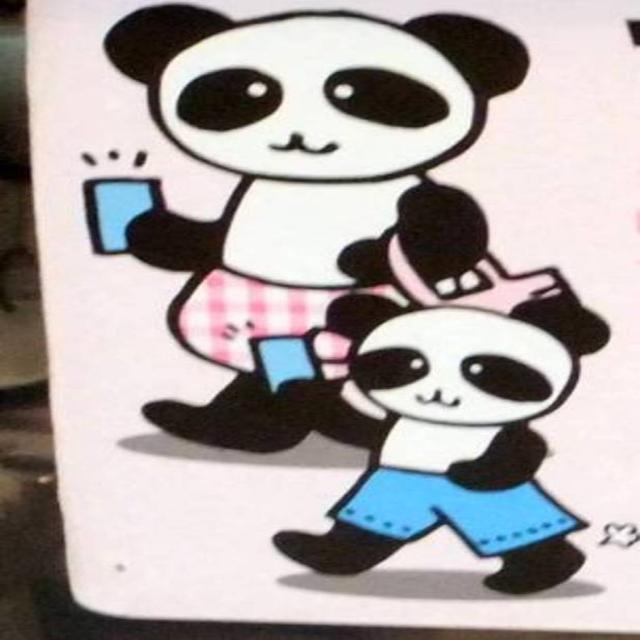panda: (123, 4, 532, 456), (271, 294, 617, 598)
